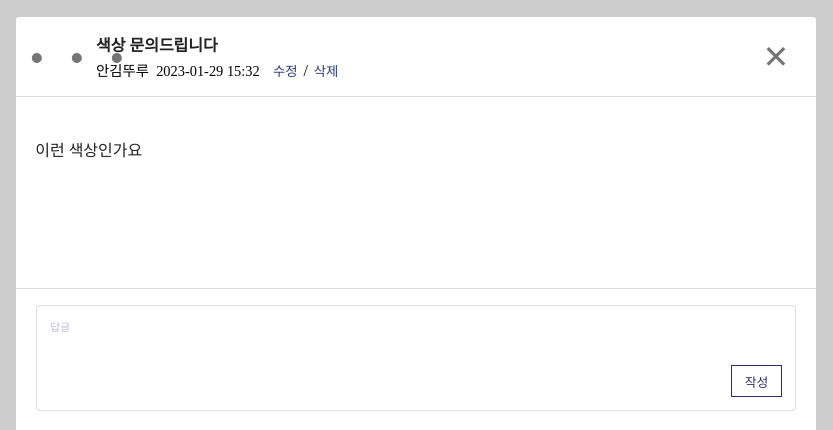
it: InquiryModal › 상품문의 수정 › 상품문의 내용을 1글자 미만으로 수정하고 제출 버튼을 클릭했을 경우 › 문의내용이 정확하지 않습니다 메시지를 볼 수 있다
(page scrolled)
Click the button "수정". click: (285, 71)
box: [267,60,303,81]
(page scrolled)
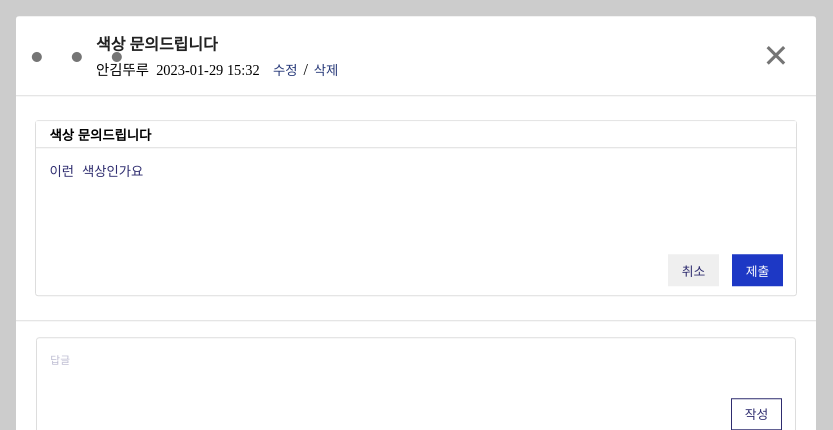
Clear the text box named "editContent". click: (416, 202)
box: [36,155,796,248]
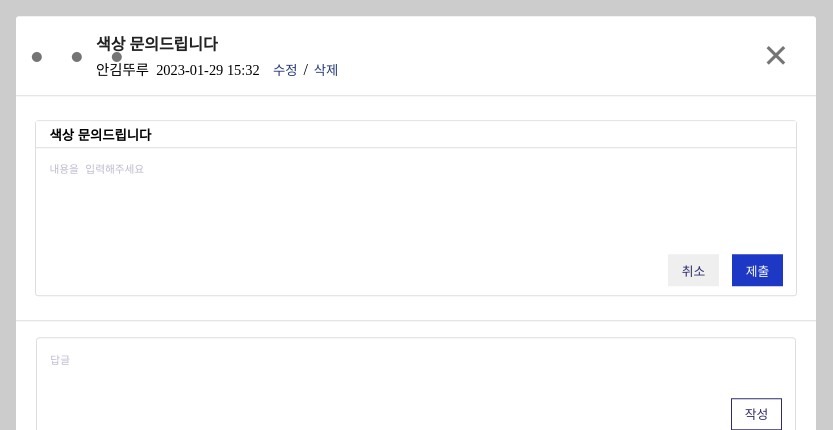
Click the button "제출". click: (757, 271)
box: [732,255,783,287]
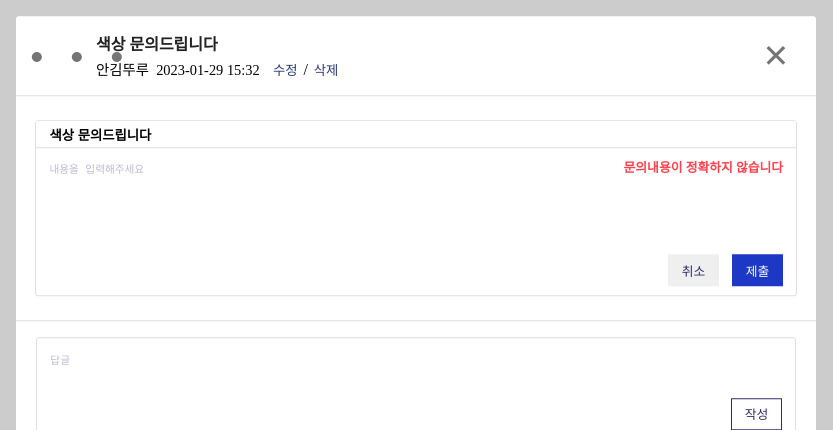
Expected: the text "문의내용이 정확하지 않습니다" is shown, [624,157,783,176]
